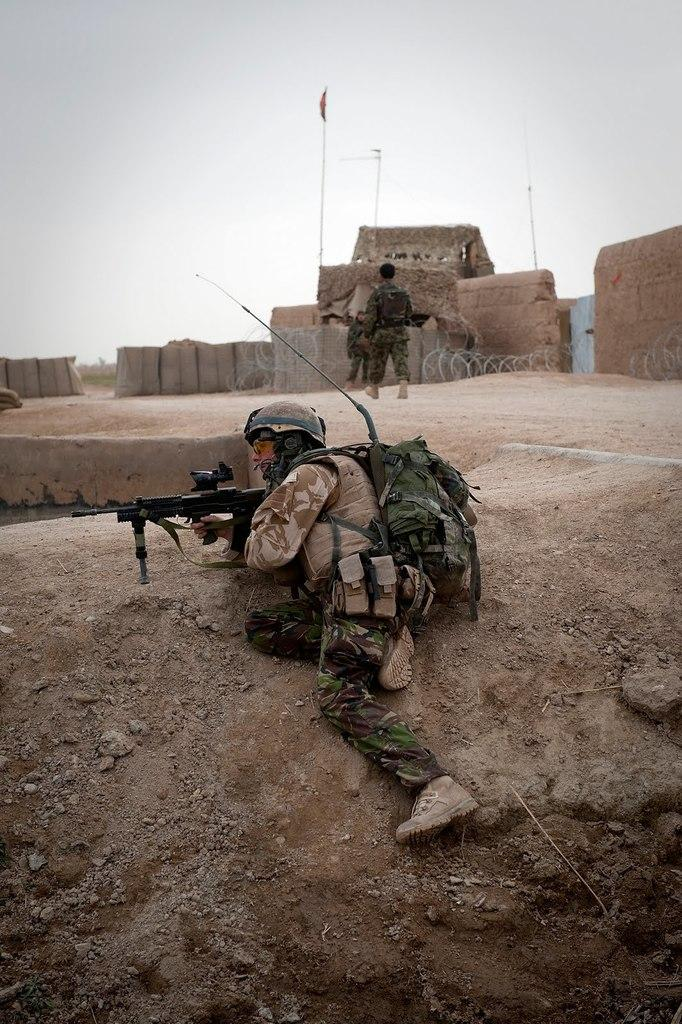Rifle: (70, 459, 272, 586)
